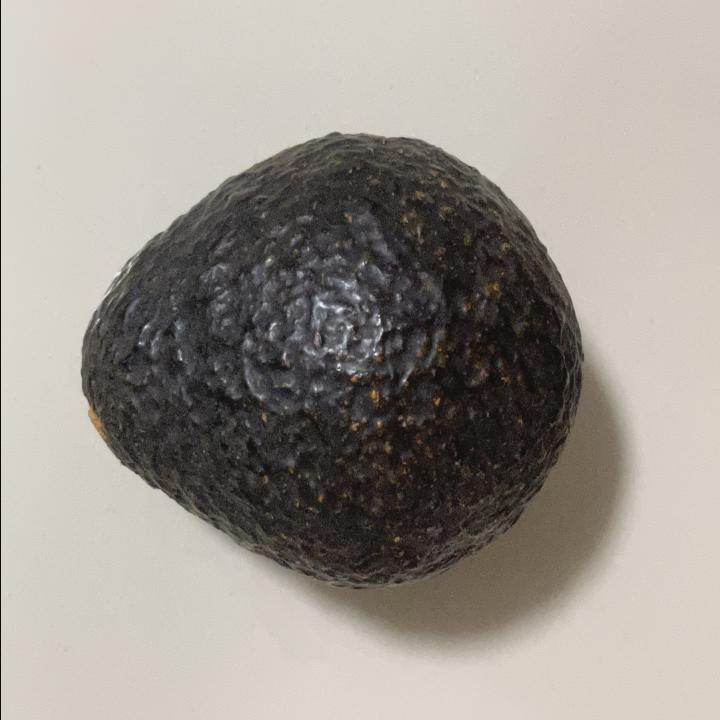Level2: (70, 122, 590, 598)
